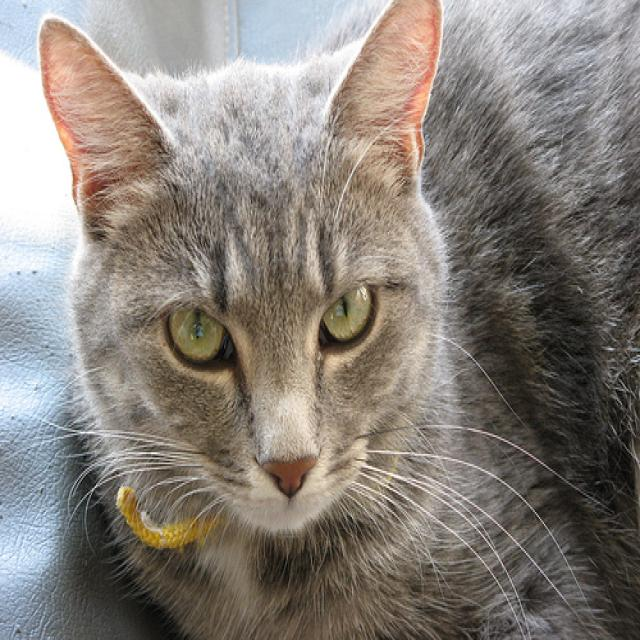cat: (37, 1, 640, 639)
